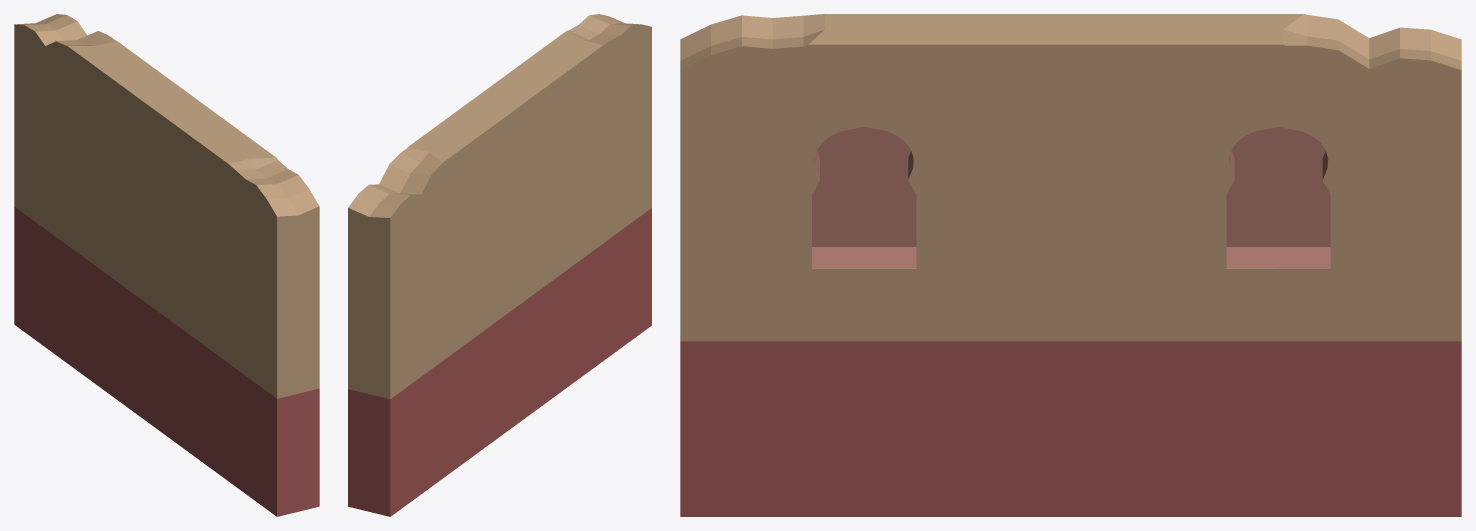
Rendered from Wall Diya.fbx.
3 views of the same model, side by side, from view 1: azimuth 30°, elevation 25°; view 2: azimuth 150°, elevation 25°; view 3: azimuth 270°, elevation 25° (orthographic). The views are drawn at different scales.
Parts seen in each view (by area): view 1: Wall Diya Final; view 2: Wall Diya Final; view 3: Wall Diya Final.
Part boxes in pixels (x1,y1,x2,y2): Wall Diya Final: [14, 14, 319, 516]; Wall Diya Final: [348, 14, 651, 516]; Wall Diya Final: [680, 14, 1461, 516].
Bounding box in the file's own units: 1500 × 1000 × 140.
